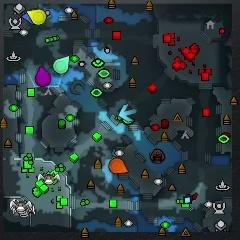p1: (21, 10, 33, 25)
p2: (53, 57, 70, 74)
p3: (35, 68, 52, 86)
p4: (26, 9, 45, 25)
p5: (109, 158, 127, 174)
x3: (119, 105, 137, 121)
